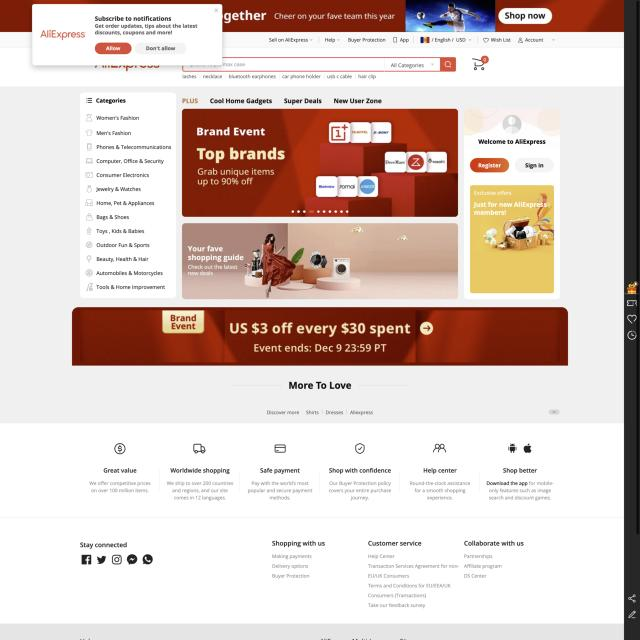footer: (0, 511, 623, 624)
logo: (40, 28, 89, 43)
